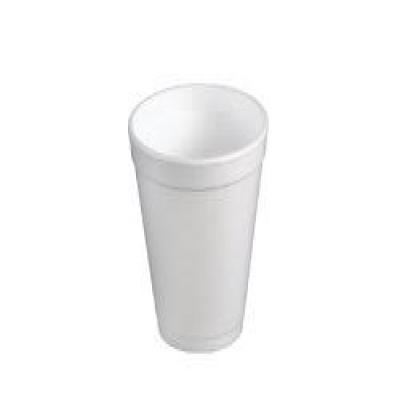paper: (126, 81, 264, 351)
